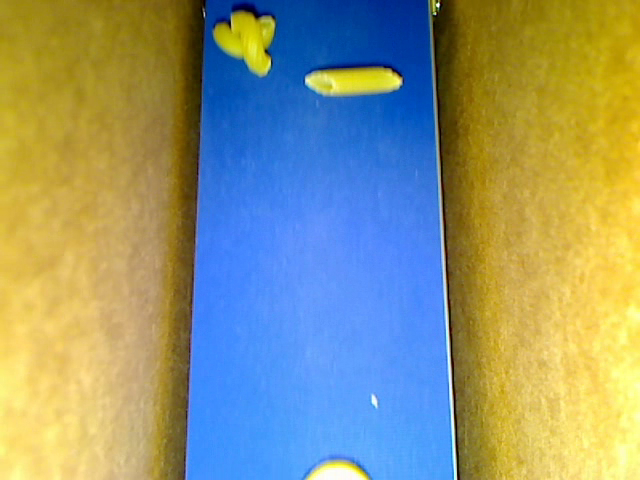elbow: (230, 11, 272, 77), (212, 16, 276, 59)
penne: (304, 66, 401, 95)
